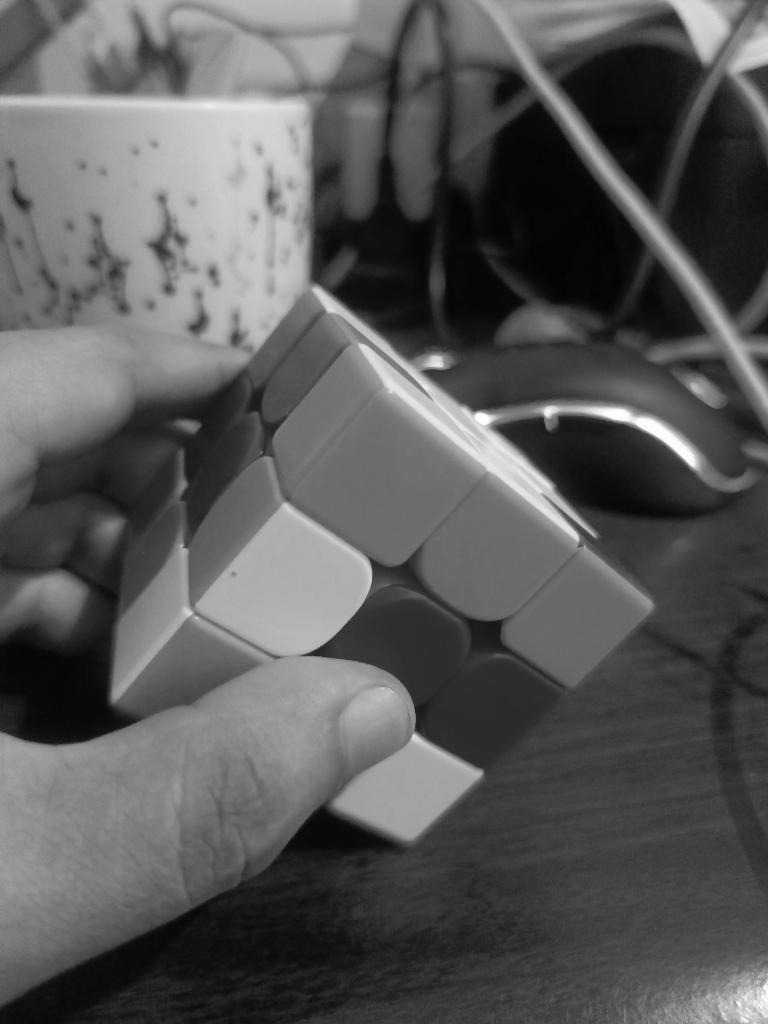rubik: (106, 282, 656, 848)
